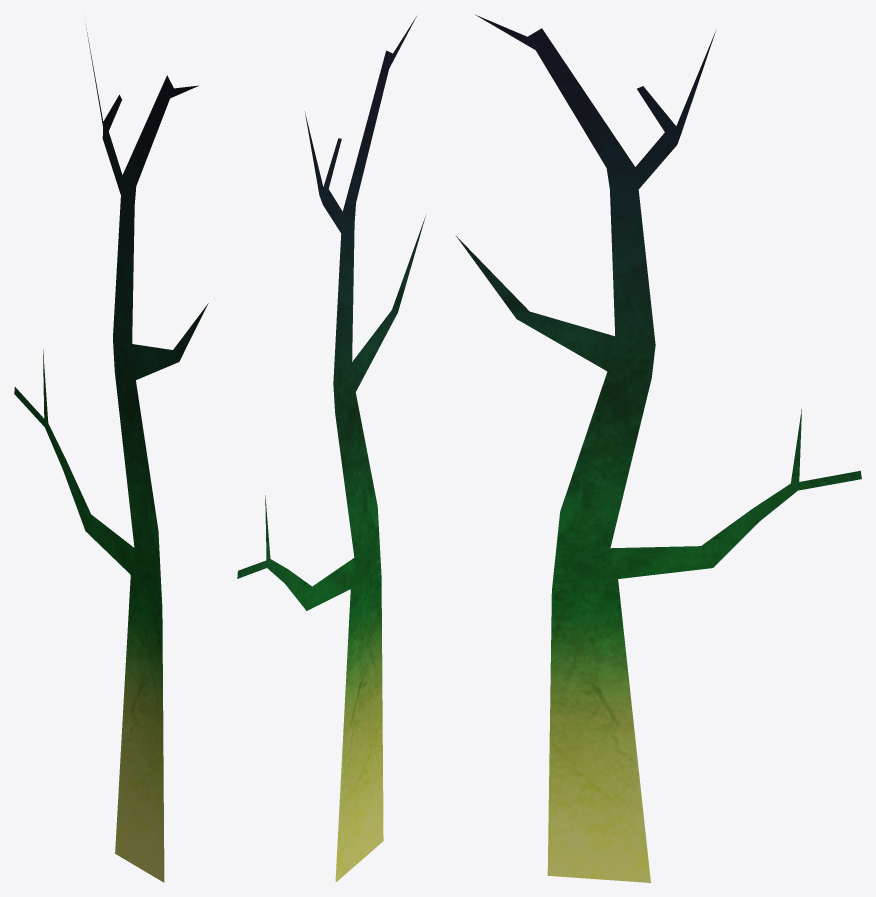
Rendered from Tree003.fbx.
The picture shows the model from 3 angles, left to right: view 1: azimuth 30°, elevation 25°; view 2: azimuth 150°, elevation 25°; view 3: azimuth 270°, elevation 25°; orthographic projection. The views are drawn at different scales.
Visible parts, largest first — view 1: polySurface2; view 2: polySurface2; view 3: polySurface2.
Part boxes in pixels (<box>): polySurface2: <box>14,24,208,882</box>; polySurface2: <box>237,16,425,882</box>; polySurface2: <box>455,14,861,882</box>.
Bounding box in the file's own units: 4.31 × 1552 × 658.
